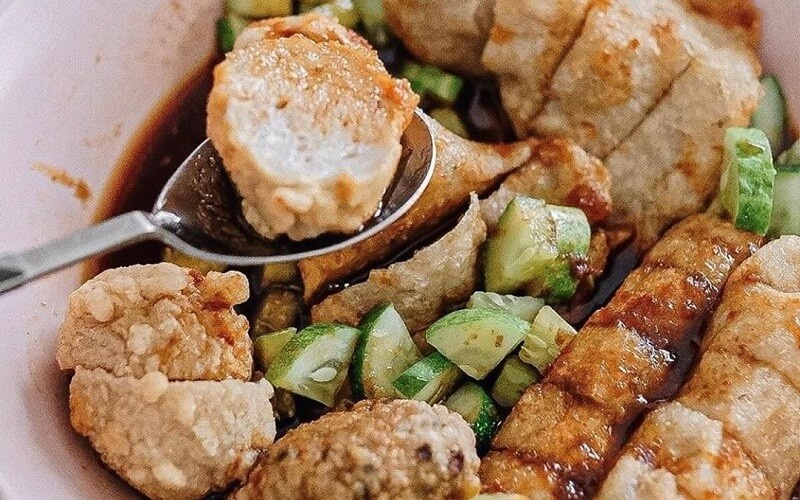pempek: (64, 2, 800, 500)
